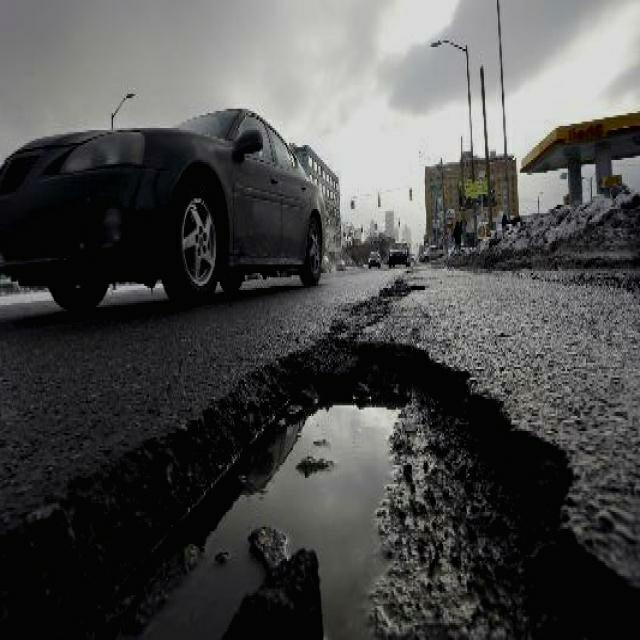Pothole: (1, 326, 640, 638)
